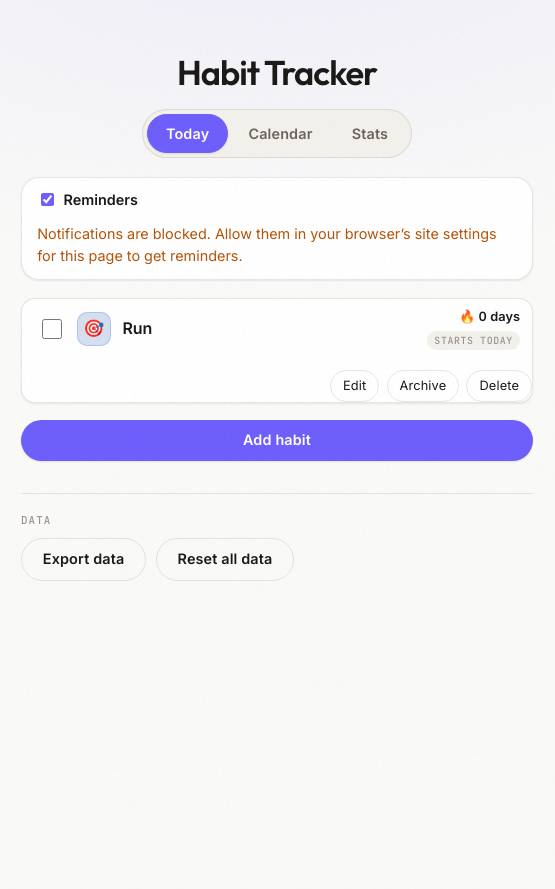
App › navigates between months
The image size is (555, 889).
Step 1. Click the button "Calendar" → (281, 134), box [230, 114, 331, 153]
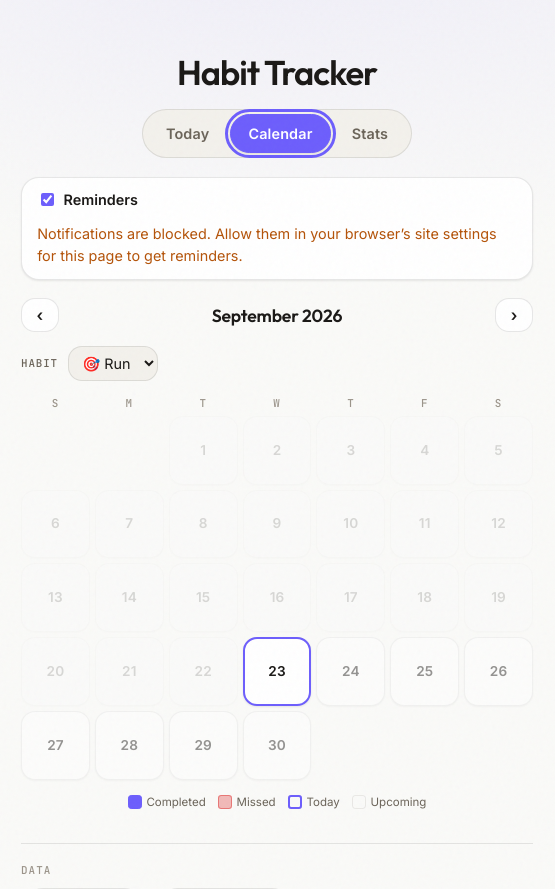
Step 2. Click the button named "Next month" → (514, 315), box [495, 298, 533, 332]
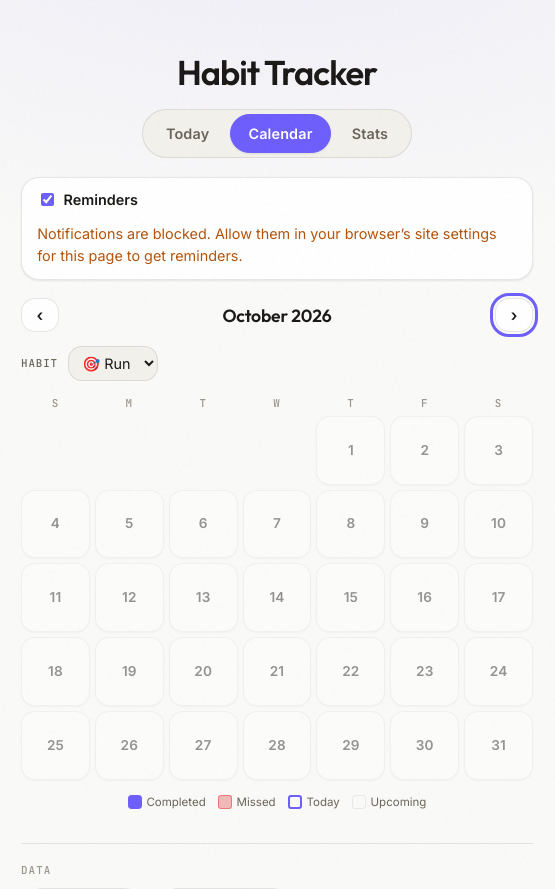
Now the text "October 2026" is shown, box [222, 302, 332, 329]
Now the button named "October 1, future" is shown, box [316, 416, 385, 485]
Step 3. Click the button named "Previous month" → (40, 315), box [21, 298, 59, 332]
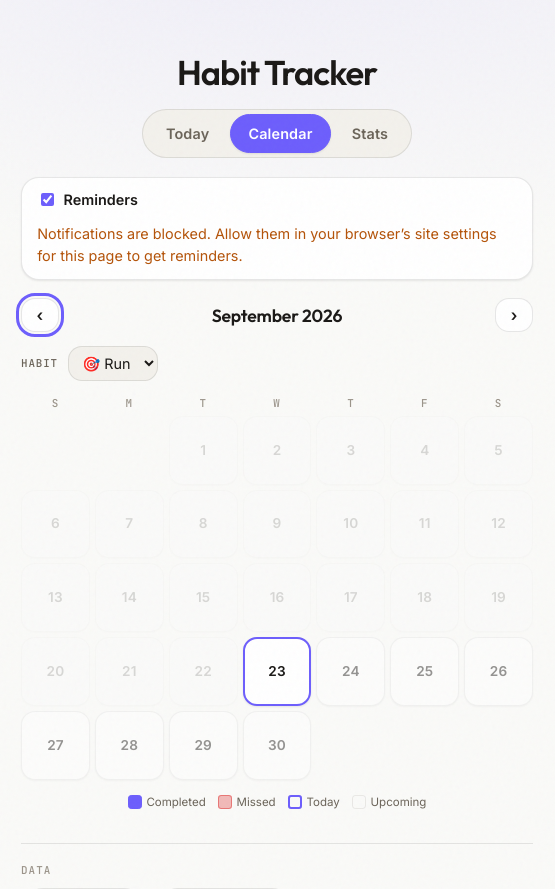
Step 4. Click the button named "Previous month" → (40, 315), box [21, 298, 59, 332]
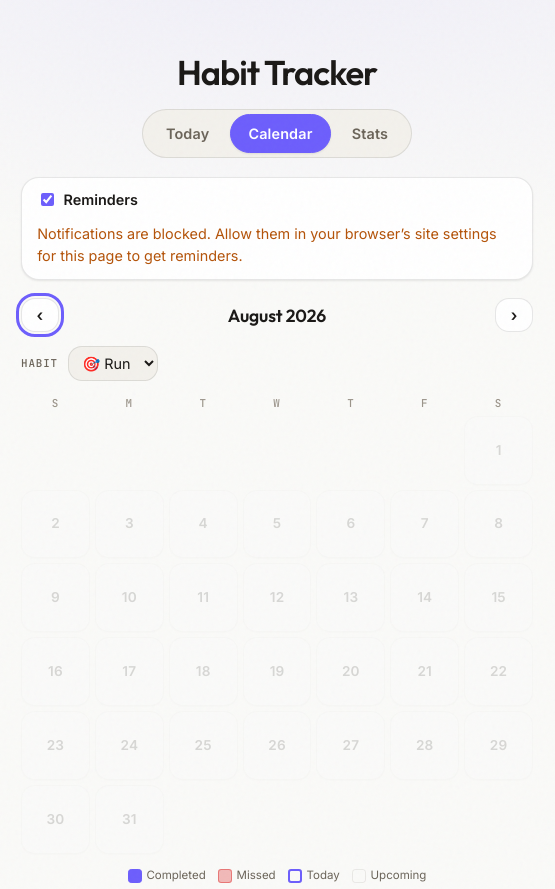
Now the text "August 2026" is shown, box [228, 302, 326, 329]
